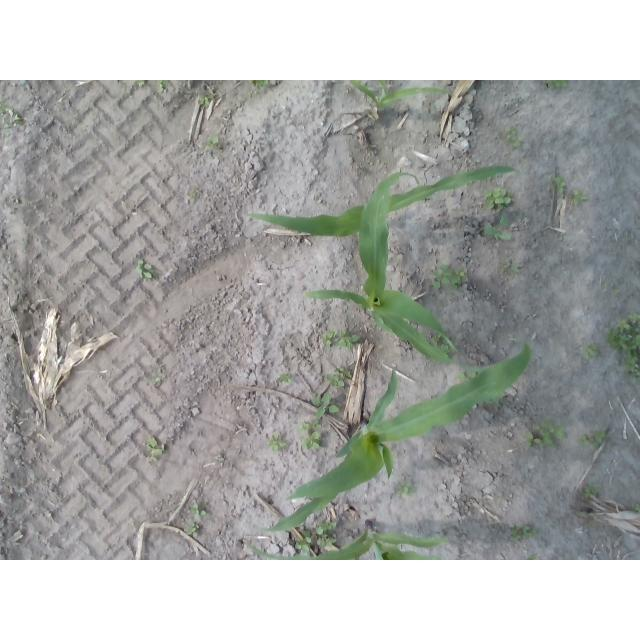Maize: (254, 345, 534, 534), (303, 172, 499, 370), (243, 166, 516, 238), (242, 520, 442, 560), (350, 81, 452, 108)
Weeds: (606, 313, 640, 380), (528, 420, 568, 445), (312, 394, 339, 419), (301, 420, 322, 452), (485, 188, 511, 213), (1, 103, 22, 129), (430, 264, 450, 290), (485, 214, 508, 236), (334, 331, 358, 348), (317, 529, 337, 548), (148, 435, 161, 459), (137, 260, 153, 279), (266, 435, 286, 450), (295, 537, 314, 552), (454, 266, 468, 286), (513, 527, 532, 541), (508, 127, 521, 147), (583, 343, 598, 360), (585, 481, 598, 498), (326, 372, 344, 384), (546, 81, 570, 90), (573, 191, 587, 206), (203, 134, 220, 146), (187, 523, 202, 536), (319, 520, 338, 530), (555, 176, 566, 193), (322, 330, 334, 345), (191, 504, 205, 516), (253, 80, 268, 90), (593, 430, 605, 442), (338, 366, 350, 378), (157, 80, 169, 92), (398, 483, 410, 494), (580, 435, 592, 445), (199, 95, 209, 105), (509, 264, 518, 275), (503, 257, 511, 269), (278, 374, 290, 382), (612, 289, 621, 296), (189, 194, 196, 203), (603, 284, 609, 293), (139, 81, 146, 88), (195, 189, 202, 196), (152, 377, 160, 383)
